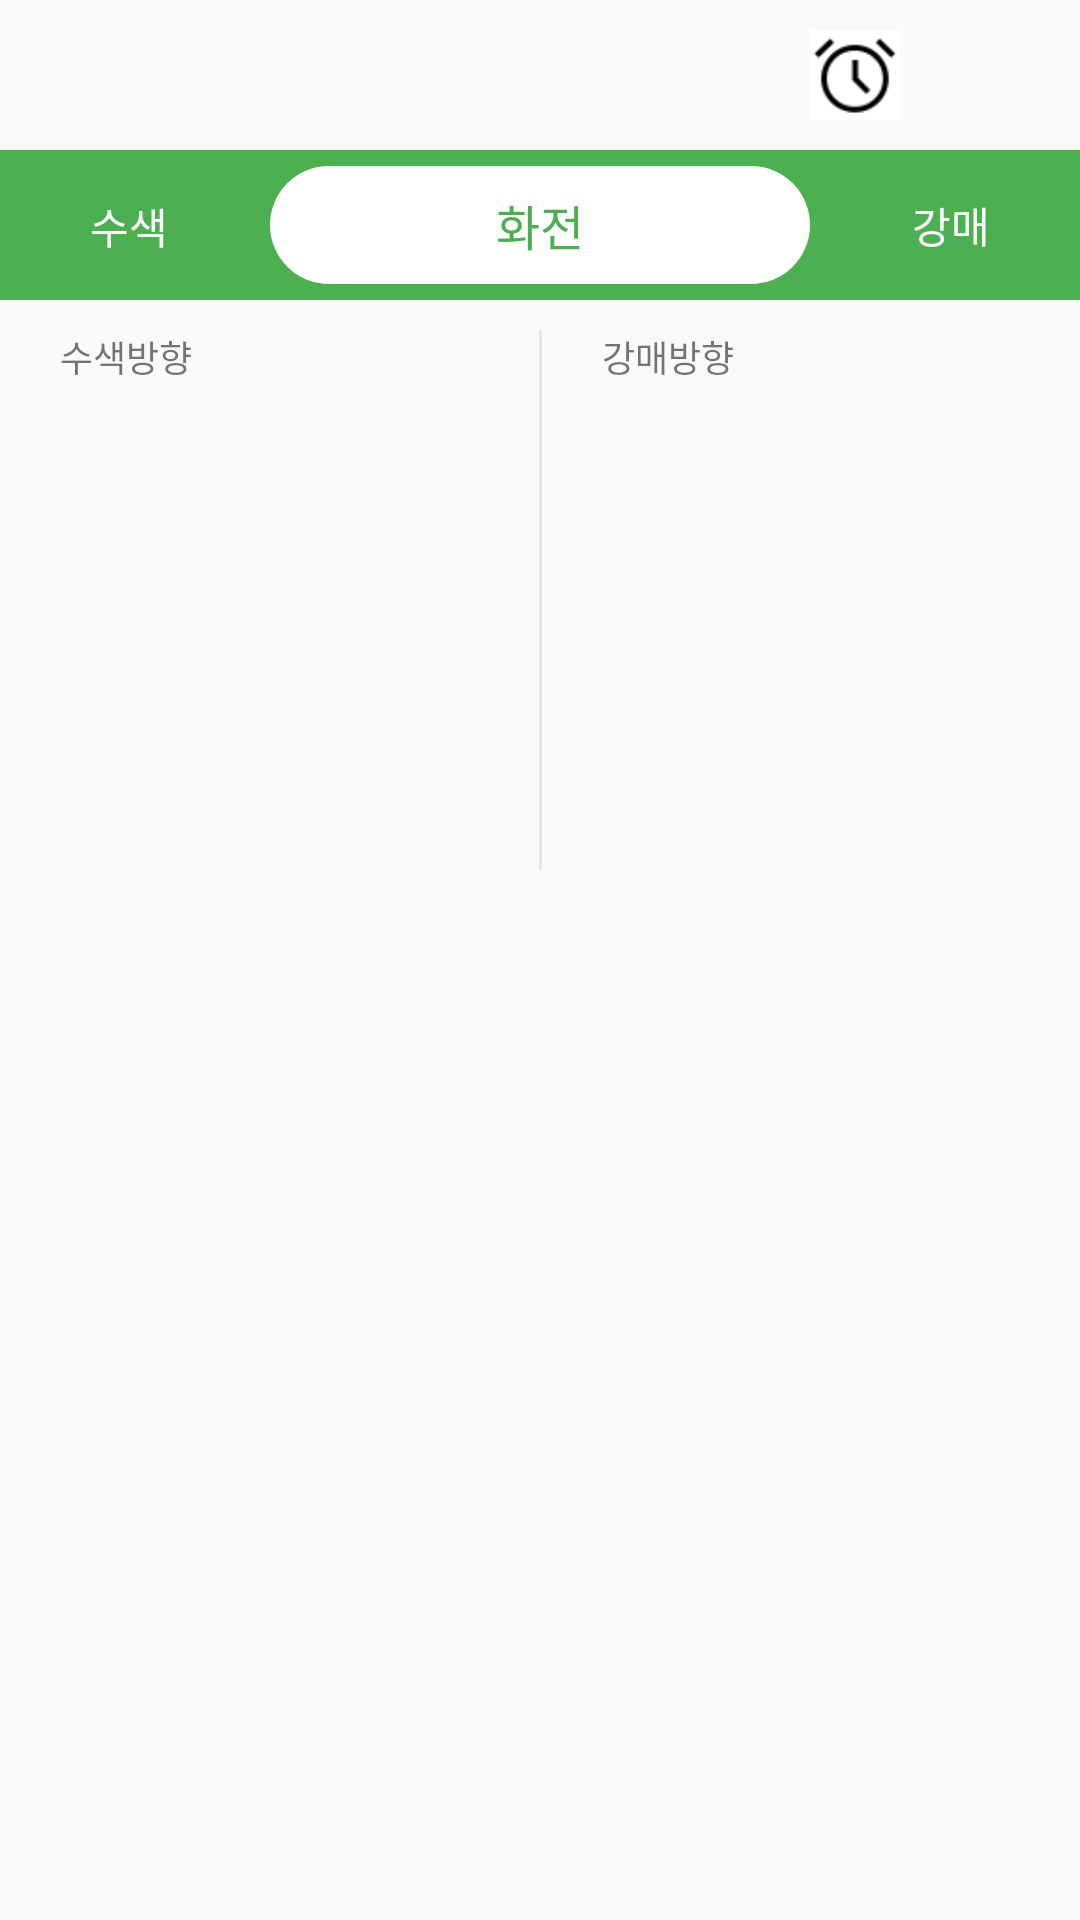

Icons on this 1080px x 1920px Android screen, each with the point to tap as point (x, y):
alarm: point (855, 75)
